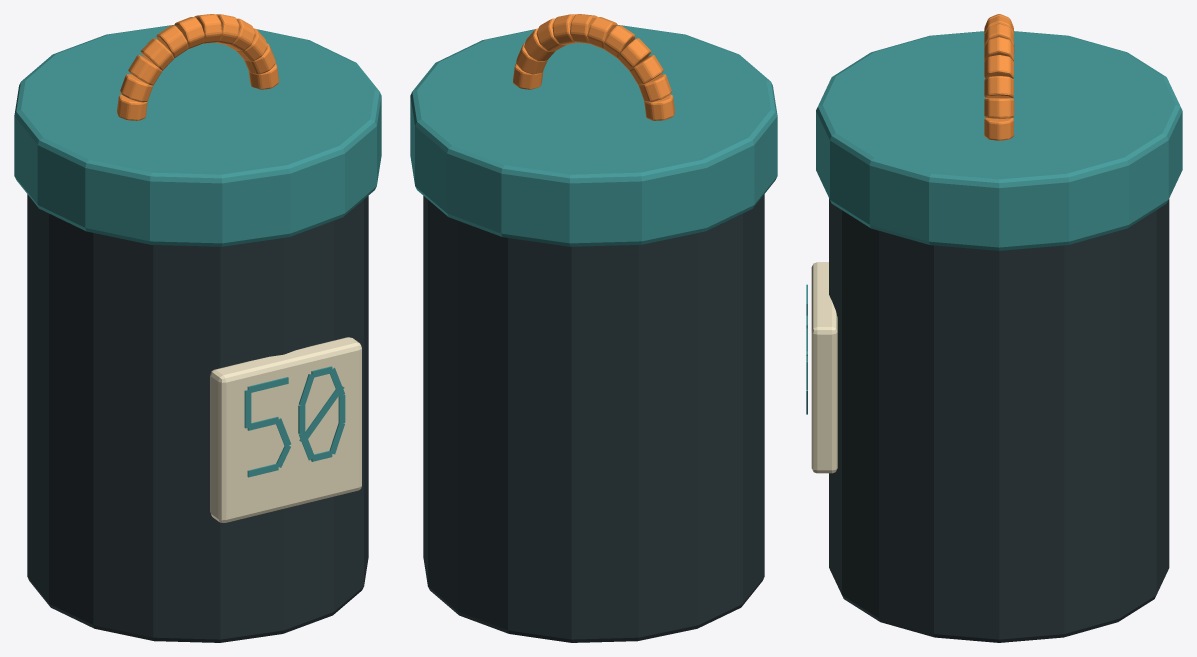
Rendered from P058_lens_case.glb.
3 renders of one model, left to right at view 1: azimuth 30°, elevation 25°; view 2: azimuth 150°, elevation 25°; view 3: azimuth 270°, elevation 25°, orthographic.
Visible parts, largest first — view 1: P058_case_001, P058_lid_002, P058_label_015, P058_number_016, P058_handle_013, P058_handle_010, P058_handle_011, P058_handle_012, P058_handle_014, P058_handle_009, P058_handle_008, P058_handle_007; view 2: P058_case_001, P058_lid_002, P058_handle_013, P058_handle_010, P058_handle_011, P058_handle_012, P058_handle_014, P058_handle_009, P058_handle_008, P058_handle_007; view 3: P058_case_001, P058_lid_002, P058_label_015, P058_handle_003, P058_handle_005, P058_handle_004, P058_handle_006.
Part boxes in pixels (x1,y1,x2,y2): P058_case_001: [27, 194, 368, 642]; P058_lid_002: [14, 24, 381, 246]; P058_label_015: [210, 337, 361, 522]; P058_number_016: [244, 366, 345, 477]; P058_handle_013: [120, 74, 152, 102]; P058_handle_010: [156, 25, 188, 58]; P058_handle_011: [140, 38, 174, 70]; P058_handle_012: [128, 55, 162, 85]; P058_handle_014: [117, 94, 147, 120]; P058_handle_009: [174, 17, 204, 49]; P058_handle_008: [194, 14, 221, 43]; P058_handle_007: [215, 14, 239, 44]; P058_case_001: [423, 194, 764, 642]; P058_lid_002: [410, 24, 777, 246]; P058_handle_013: [639, 74, 671, 102]; P058_handle_010: [603, 25, 635, 58]; P058_handle_011: [617, 38, 651, 70]; P058_handle_012: [629, 55, 663, 85]; P058_handle_014: [644, 94, 674, 120]; P058_handle_009: [587, 17, 617, 49]; P058_handle_008: [570, 14, 597, 43]; P058_handle_007: [552, 14, 576, 44]; P058_case_001: [829, 198, 1169, 642]; P058_lid_002: [816, 31, 1182, 250]; P058_label_015: [811, 262, 837, 473]; P058_handle_003: [984, 118, 1013, 140]; P058_handle_005: [984, 76, 1013, 97]; P058_handle_004: [984, 98, 1014, 118]; P058_handle_006: [984, 55, 1014, 78].
Size of the model in its own units: 0.168 by 0.2786 by 0.1723.
